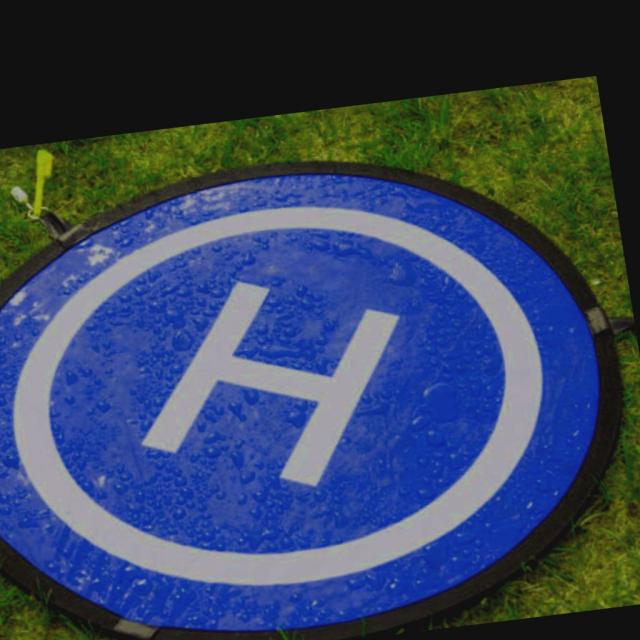helipad: (0, 197, 552, 600)
